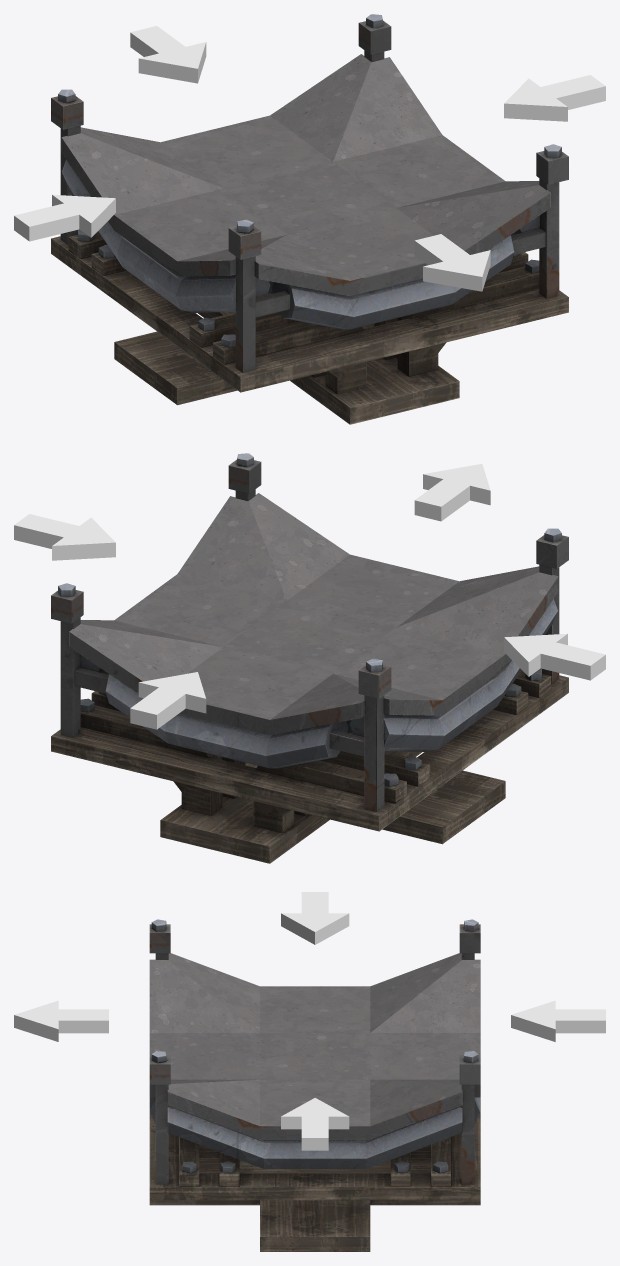
Rendered from ConveyorCombiner3To1.glb.
The picture shows the model from 3 angles, top to bottom: view 1: azimuth 30°, elevation 25°; view 2: azimuth 150°, elevation 25°; view 3: azimuth 270°, elevation 25°; orthographic projection. The views are drawn at different scales.
Parts seen in each view (by area): view 1: Renderer, ghostarrow (2), ghostarrow (3), ghostarrow (1), ghostarrow; view 2: Renderer, ghostarrow (2), ghostarrow (3), ghostarrow (1), ghostarrow; view 3: Renderer, ghostarrow (1), ghostarrow, ghostarrow (3), ghostarrow (2).
Part boxes in pixels (x1,y1,x2,y2): Renderer: [51, 14, 568, 424]; ghostarrow (2): [14, 194, 115, 241]; ghostarrow (3): [504, 75, 605, 121]; ghostarrow (1): [130, 26, 206, 83]; ghostarrow: [414, 234, 490, 291]; Renderer: [51, 453, 568, 863]; ghostarrow (2): [504, 633, 605, 680]; ghostarrow (3): [14, 514, 115, 560]; ghostarrow (1): [130, 672, 206, 729]; ghostarrow: [414, 464, 490, 521]; Renderer: [149, 919, 480, 1251]; ghostarrow (1): [511, 1000, 605, 1041]; ghostarrow: [14, 1000, 108, 1041]; ghostarrow (3): [281, 1098, 349, 1150]; ghostarrow (2): [281, 892, 349, 944].
Size of the model in its own units: 1.76 by 0.6449 by 1.79.
4 materials, 2 textured.
